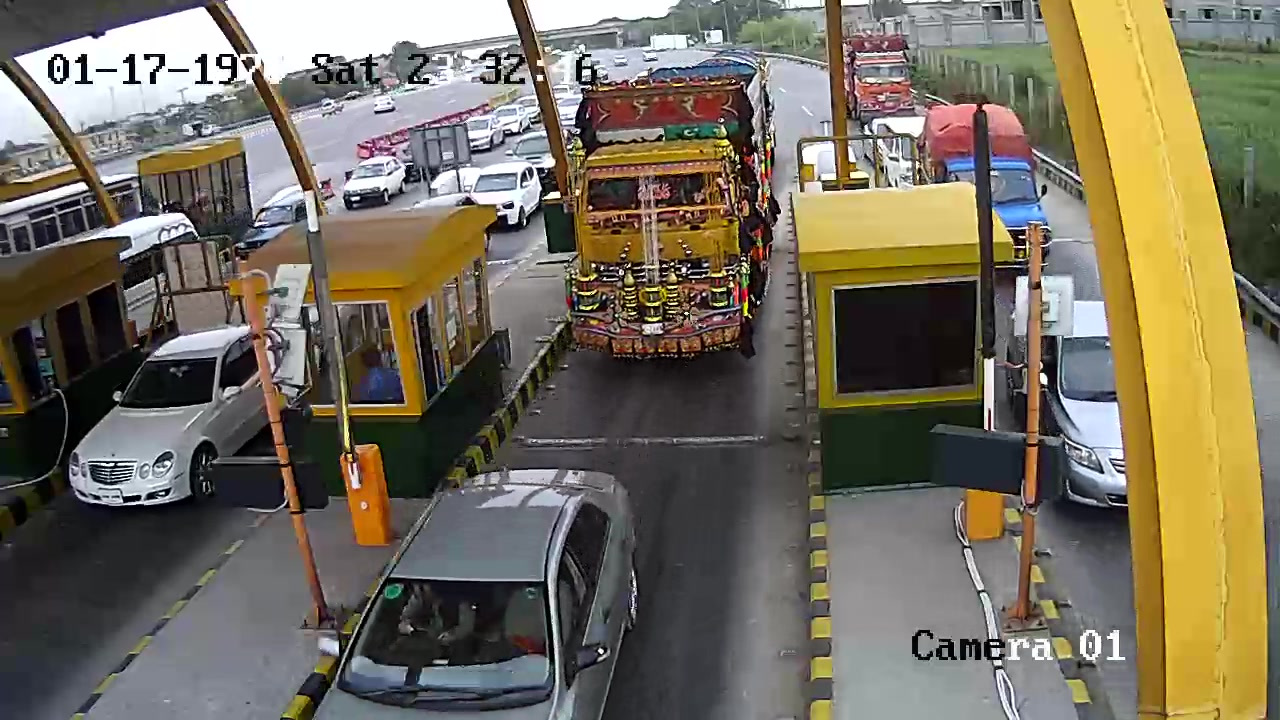F5: (552, 33, 785, 372)
